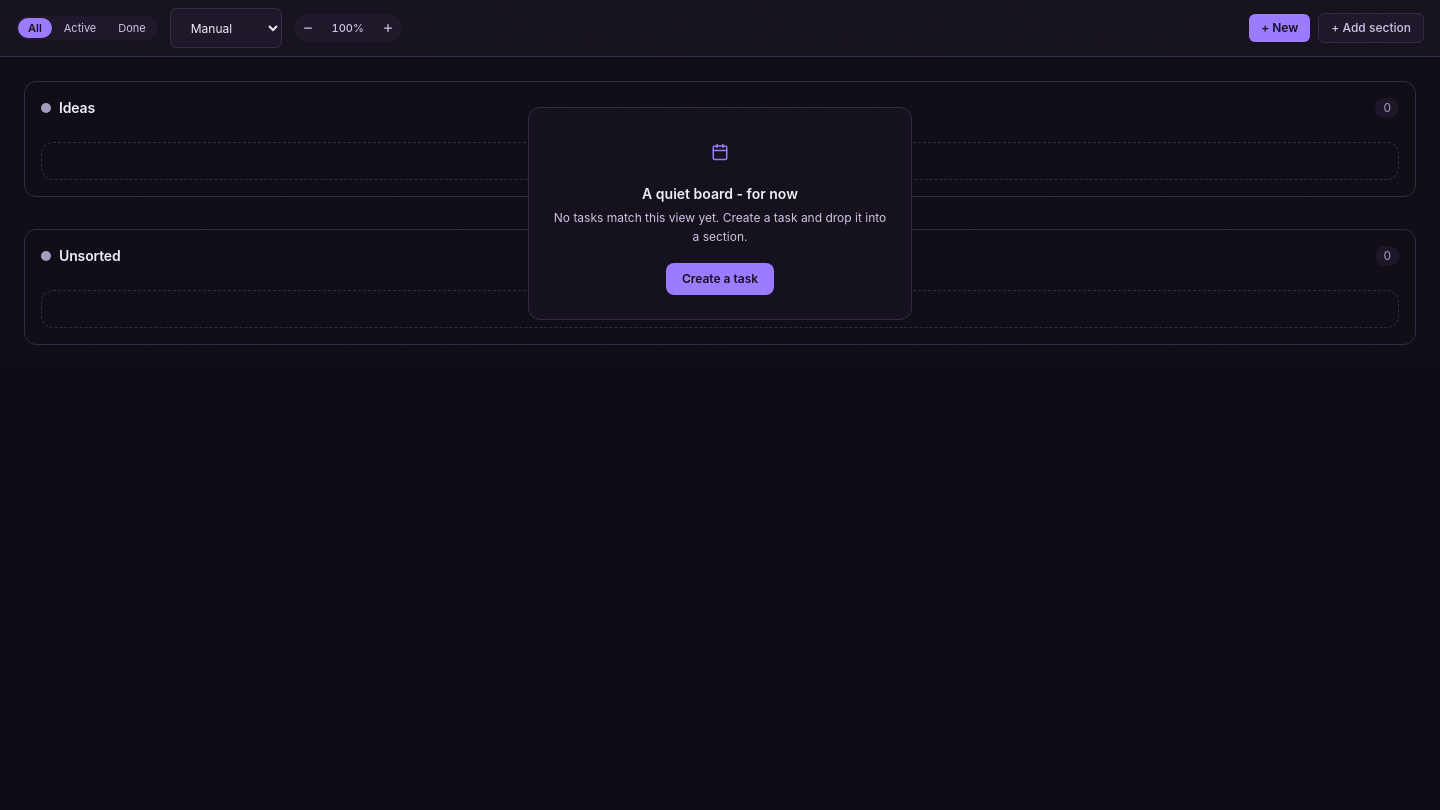
it: BoardView › empty-state CTA opens the board-scoped rich create form
The image size is (1440, 810).
Click the button "Create a task" at [720, 278], box [666,262,774,294]
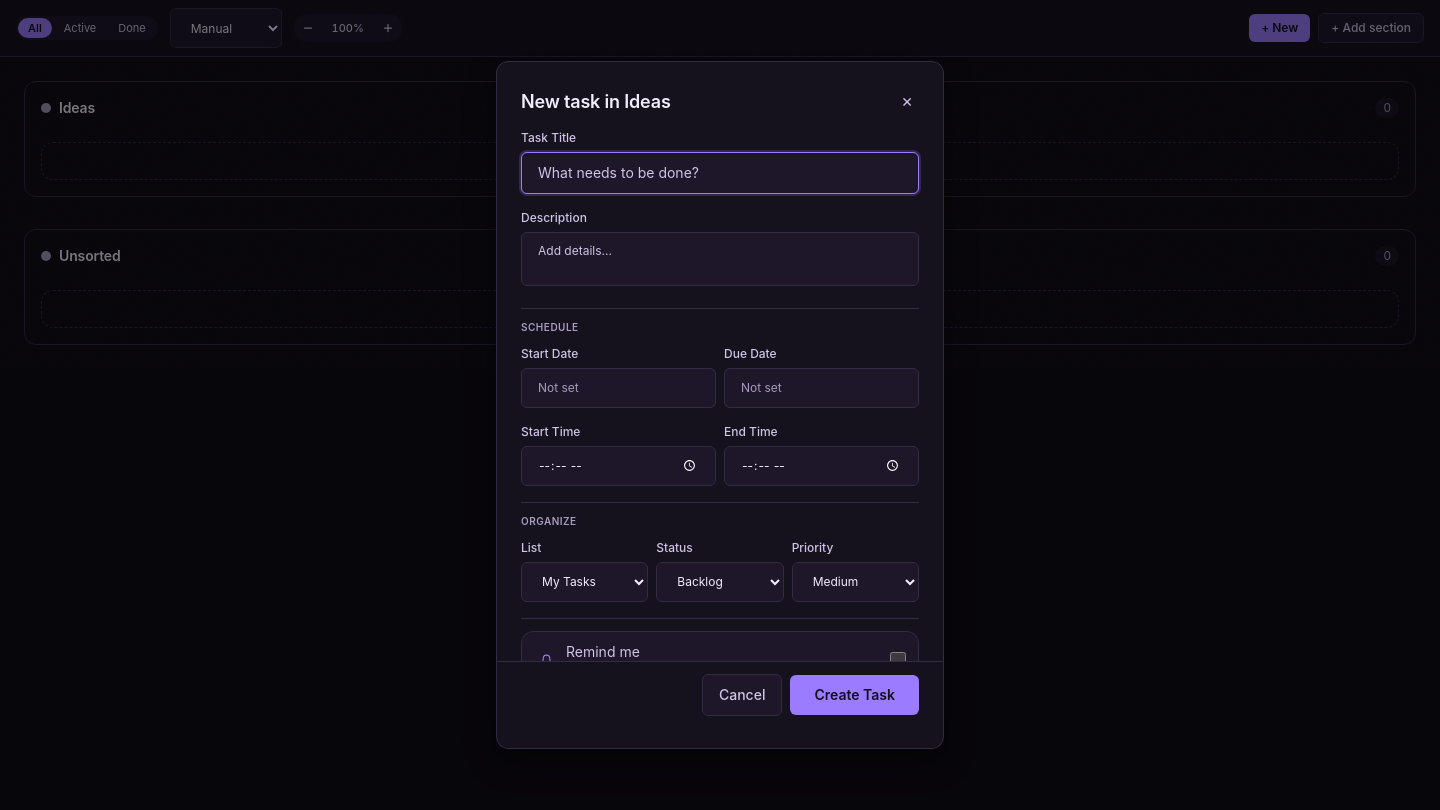
Expected: the field with placeholder "What needs to be done?" is shown, [521,152,919,194]
